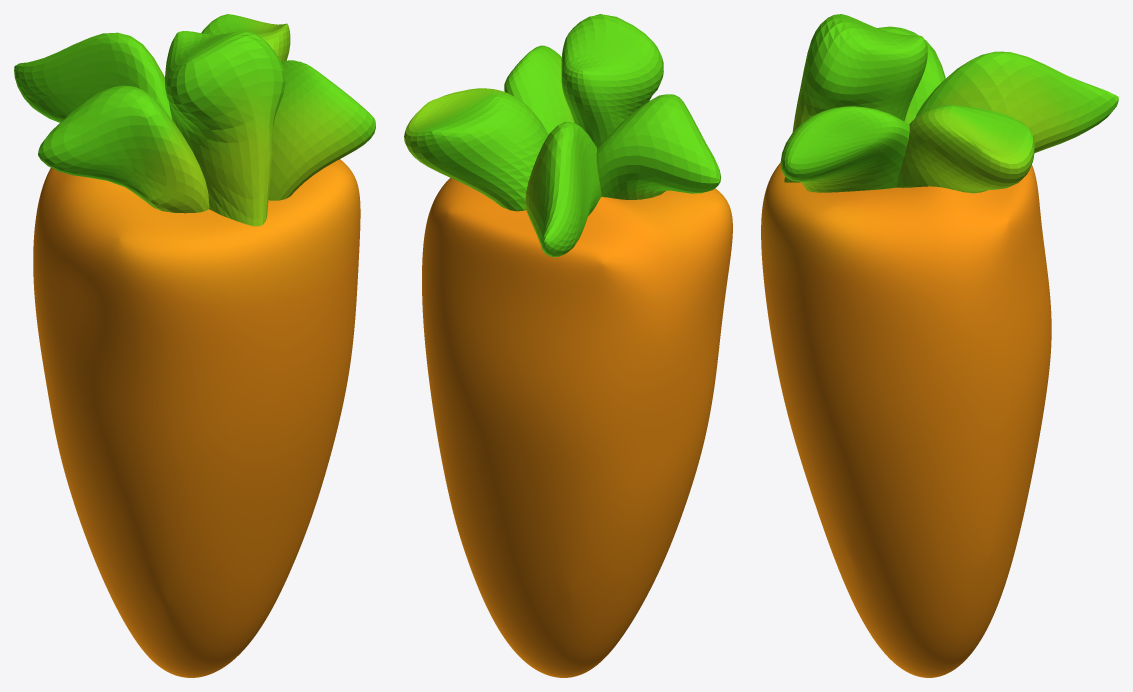
Rendered from carrot.glb.
The picture shows the model from 3 angles, left to right: view 1: azimuth 30°, elevation 25°; view 2: azimuth 150°, elevation 25°; view 3: azimuth 270°, elevation 25°; orthographic projection. The views are drawn at different scales.
Parts seen in each view (by area): view 1: Quad Sphere, Tube (×2), Tube 1, Tube 3, Tube 2; view 2: Quad Sphere, Tube (×2), Tube 2, Tube 3, Tube 1; view 3: Quad Sphere, Tube (×2), Tube 3, Tube 2, Tube 1.
Boxes of the visible parts, x1=… form: Quad Sphere: x1=33, y1=159, x2=360, y2=677; Tube (×2): x1=38, y1=31, x2=285, y2=226; Tube 1: x1=268, y1=60, x2=375, y2=200; Tube 3: x1=14, y1=32, x2=172, y2=122; Tube 2: x1=201, y1=14, x2=290, y2=61; Quad Sphere: x1=422, y1=178, x2=732, y2=677; Tube (×2): x1=561, y1=14, x2=720, y2=199; Tube 2: x1=404, y1=88, x2=548, y2=211; Tube 3: x1=525, y1=121, x2=601, y2=256; Tube 1: x1=504, y1=45, x2=574, y2=134; Quad Sphere: x1=761, y1=162, x2=1051, y2=677; Tube (×2): x1=784, y1=14, x2=945, y2=182; Tube 3: x1=915, y1=51, x2=1118, y2=153; Tube 2: x1=896, y1=105, x2=1034, y2=193; Tube 1: x1=780, y1=106, x2=909, y2=192.
Size of the model in its own units: 0.4525 by 0.966 by 0.4818.
